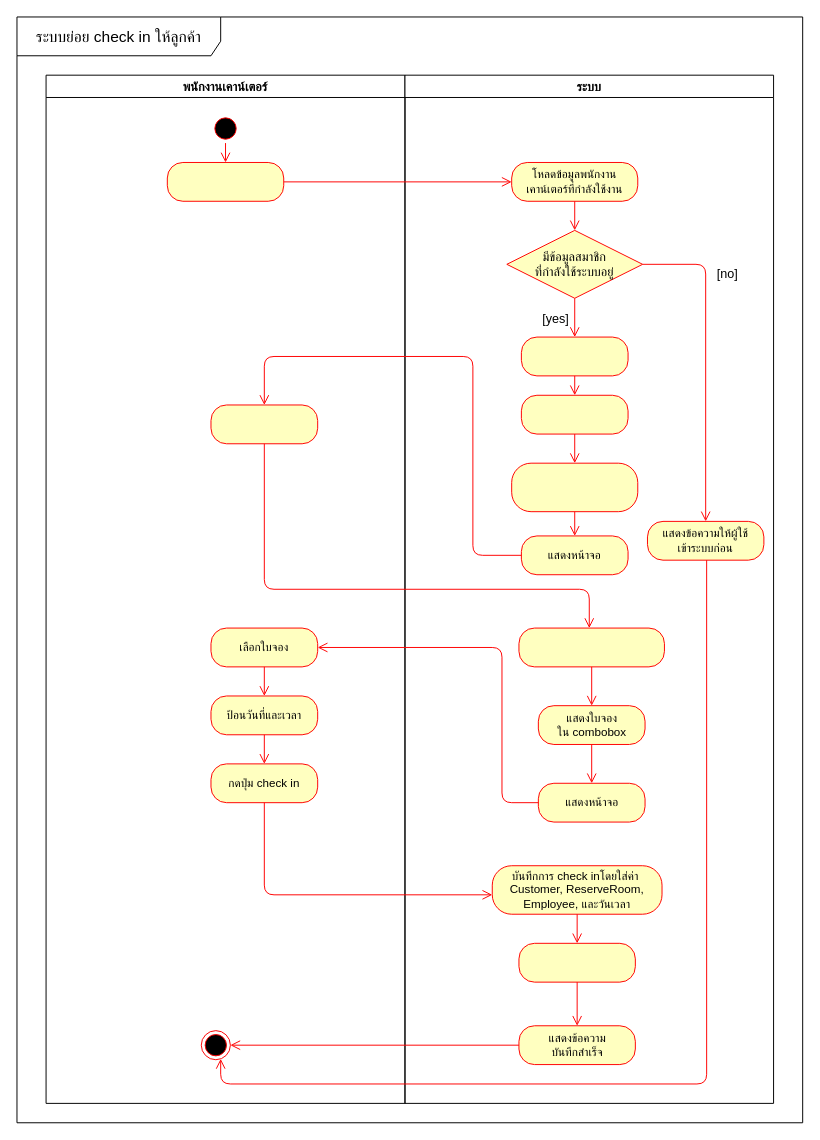
Some shapes in this 820 by 1140 pixel diagram are drawn without their labels. The shapes that lost their labels are listed below. From the top down, each one's centre as x and y in pixels, then its label:
the point at 225,181: เปิดหน้าจอ
the point at 574,356: โหลดข้อมูลลูกค้าทั้งหมด
the point at 264,424: เลือกลูกค้าจาก combobox
the point at 574,414: แสดงข้อมูลลูกค้าใน combobox
the point at 574,487: แสดงวันที่และเวลาปัจจุบันใน datetime picker
the point at 591,647: ค้นหาใบการจองห้องพัก ด้วย id ของ user
the point at 576,962: บันทึกการ check in
